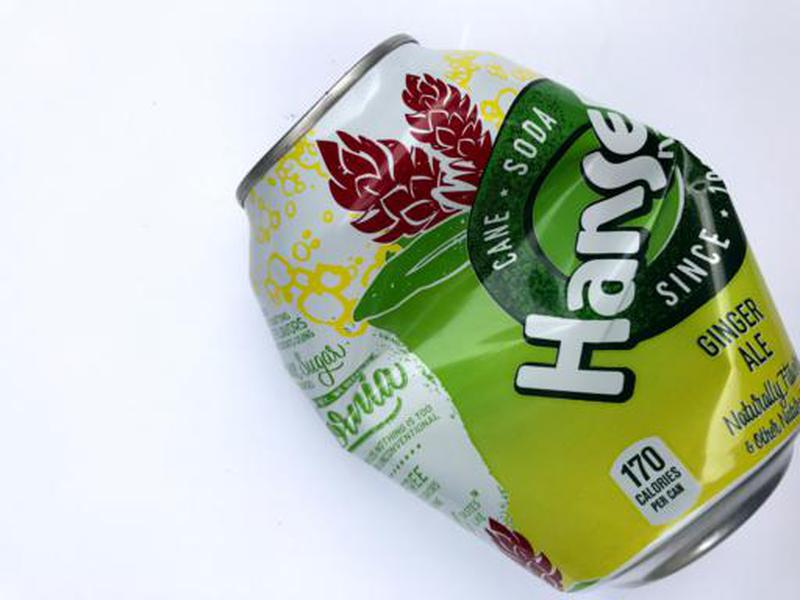can: (227, 27, 800, 598)
